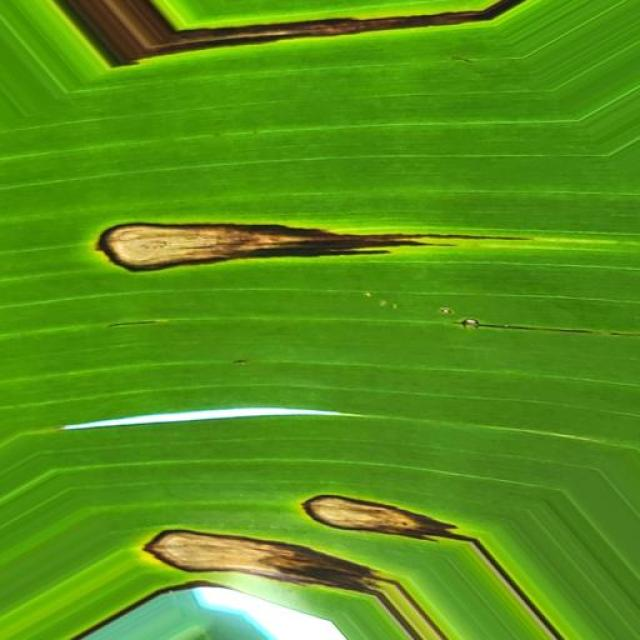Early_rust: (115, 463, 475, 614), (80, 176, 427, 300)
